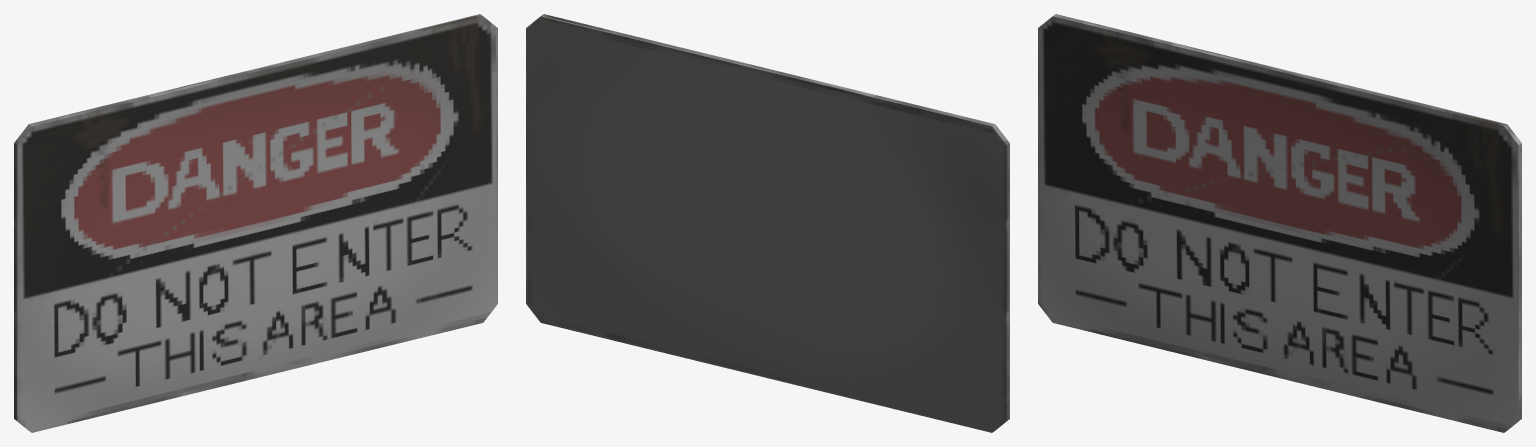
File: dangersign.fbx
3 renders of one model, left to right at view 1: azimuth 30°, elevation 25°; view 2: azimuth 150°, elevation 25°; view 3: azimuth 330°, elevation 25°, orthographic.
Visible parts, largest first — view 1: dangersign; view 2: dangersign; view 3: dangersign.
Boxes of the visible parts, x1,y1,x2,y2 form: dangersign: (14,14,497,432); dangersign: (526,14,1009,432); dangersign: (1038,14,1521,432).
Size of the model in its own units: 1.96 by 1.2 by 0.0222.
